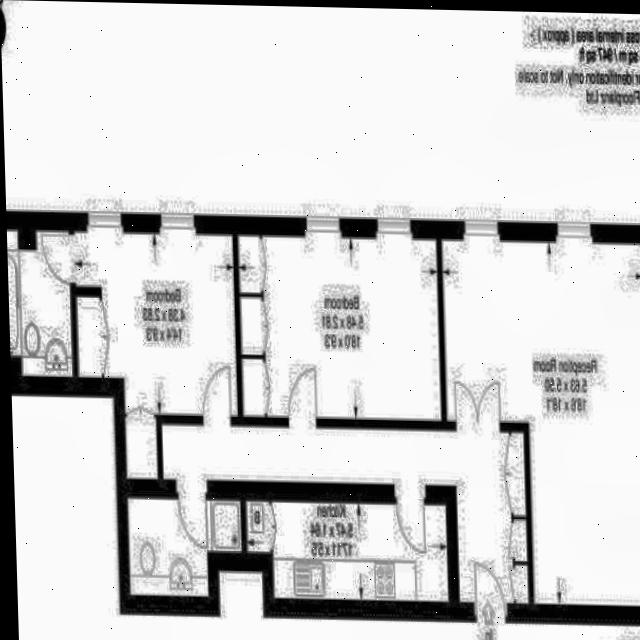room: (441, 240, 640, 606), (158, 424, 534, 604), (235, 235, 446, 419), (75, 227, 238, 420), (244, 501, 451, 602), (126, 499, 243, 597), (7, 229, 72, 378), (126, 418, 158, 479)
